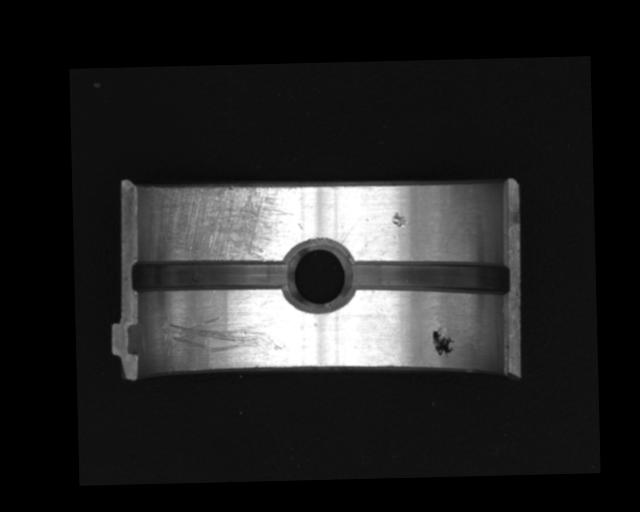blot: (431, 326, 456, 358)
bruise: (390, 210, 408, 228)
gap: (346, 257, 512, 295), (130, 256, 291, 295)
hole: (281, 241, 356, 314)
nick: (168, 314, 285, 355), (339, 216, 363, 244)
scratch: (143, 182, 306, 265)
